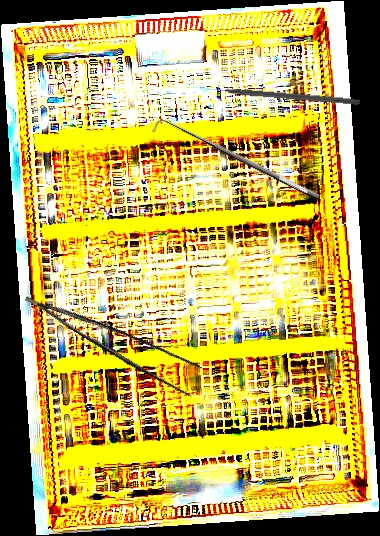Hook Surgical: (149, 111, 322, 213), (199, 84, 361, 106)
Tissue Forceps: (24, 268, 209, 404)
